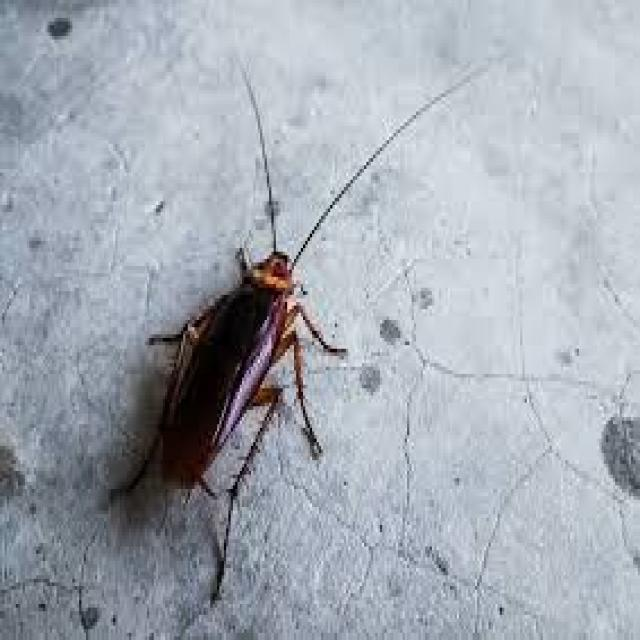Cockroach: (88, 49, 446, 606)
